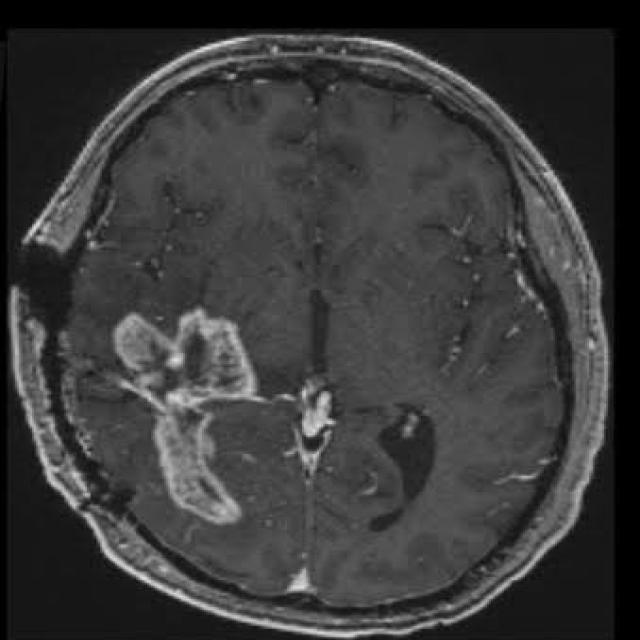tumor: (119, 311, 262, 523), (116, 307, 251, 393), (160, 420, 246, 524)
